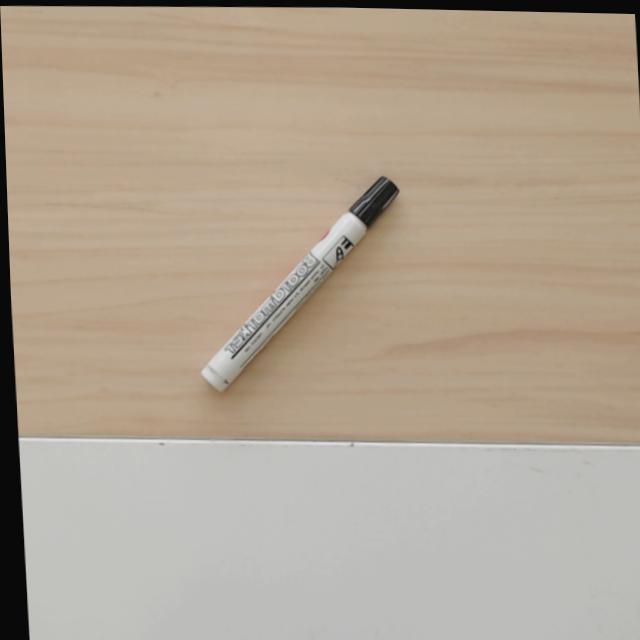Marker-Pen: (197, 171, 403, 394)
